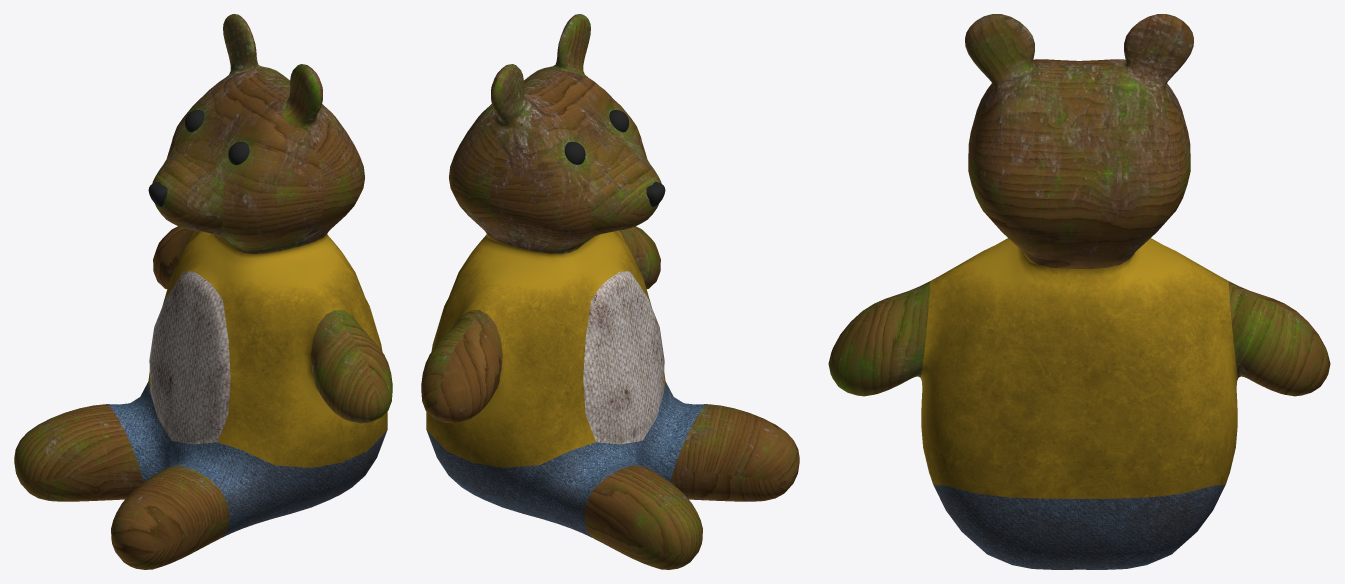
File: SM_Bear.fbx
The picture shows the model from 3 angles, left to right: view 1: azimuth 30°, elevation 25°; view 2: azimuth 150°, elevation 25°; view 3: azimuth 270°, elevation 25°; orthographic projection. The views are drawn at different scales.
Visible parts, largest first — view 1: SM_Bear; view 2: SM_Bear; view 3: SM_Bear.
Part boxes in pixels (box(x1,y1,x2,y2)): SM_Bear: box(14, 14, 392, 569); SM_Bear: box(421, 14, 799, 569); SM_Bear: box(828, 14, 1330, 569).
Bounding box in the file's own units: 62.68 × 80.4 × 96.4.
1 material, 1 textured.
